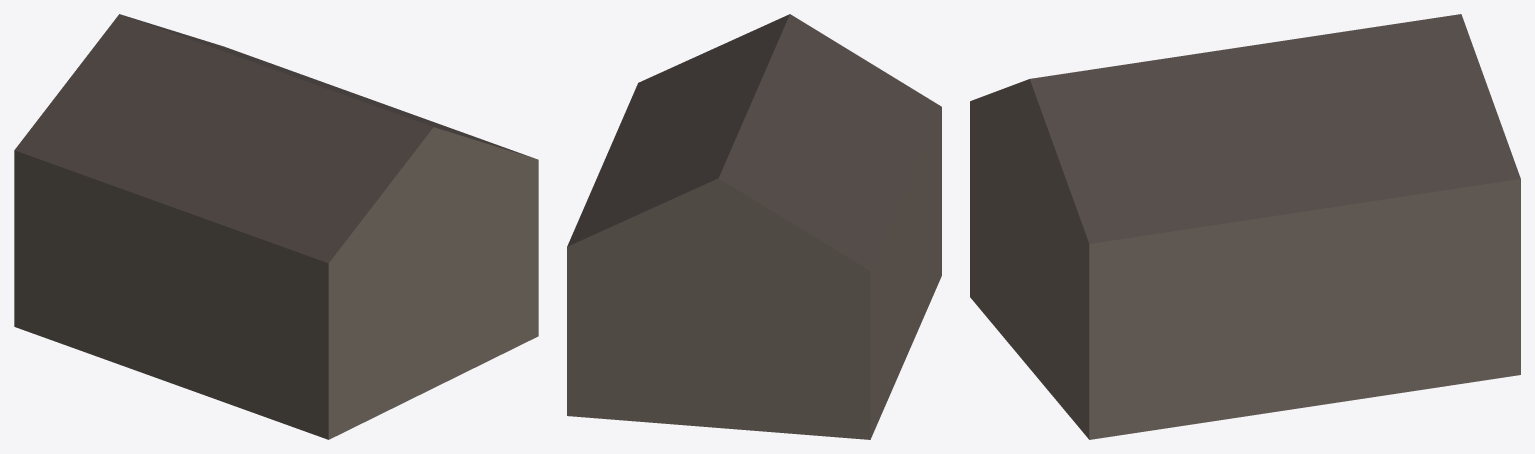
3 views of the same model, side by side, from view 1: azimuth 30°, elevation 25°; view 2: azimuth 150°, elevation 25°; view 3: azimuth 270°, elevation 25° (orthographic). The views are drawn at different scales.
Parts seen in each view (by area): view 1: HP-w859467741; view 2: HP-w859467741; view 3: HP-w859467741.
Part boxes in pixels (x1,y1,x2,y2): HP-w859467741: [14, 14, 538, 439]; HP-w859467741: [567, 14, 941, 439]; HP-w859467741: [970, 14, 1520, 439].
Bounding box in the file's own units: 20.46 × 13.31 × 22.93.
